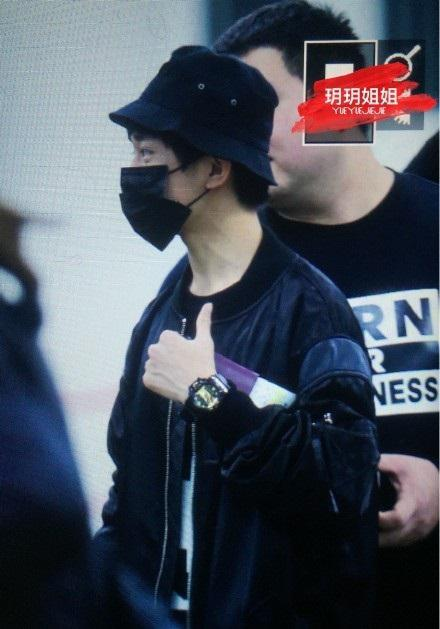OK: (112, 136, 218, 242)
